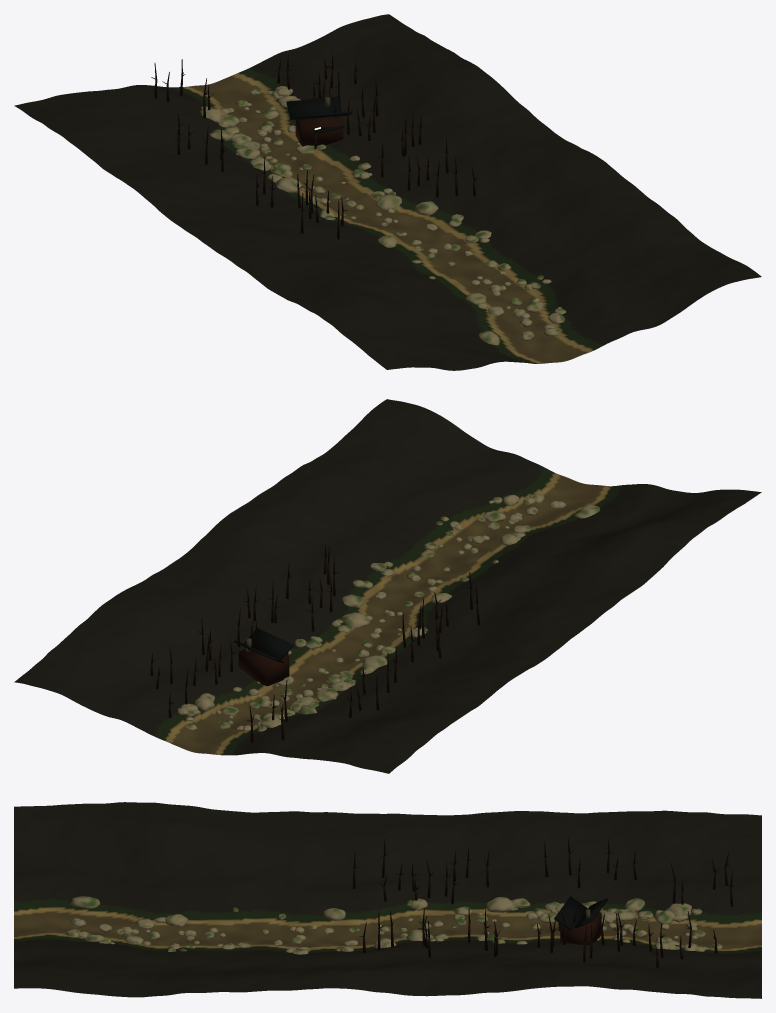
Rendered from creek_env.glb.
3 views of the same model, one above another, from view 1: azimuth 30°, elevation 25°; view 2: azimuth 150°, elevation 25°; view 3: azimuth 270°, elevation 25° (orthographic).
Parts seen in each view (by area): view 1: CreekEnv; view 2: CreekEnv; view 3: CreekEnv.
Boxes of the visible parts, <box> form: CreekEnv: <box>14,14,761,370</box>; CreekEnv: <box>14,399,761,773</box>; CreekEnv: <box>14,802,761,998</box>.
Size of the model in its own units: 72 by 10.77 by 124.
